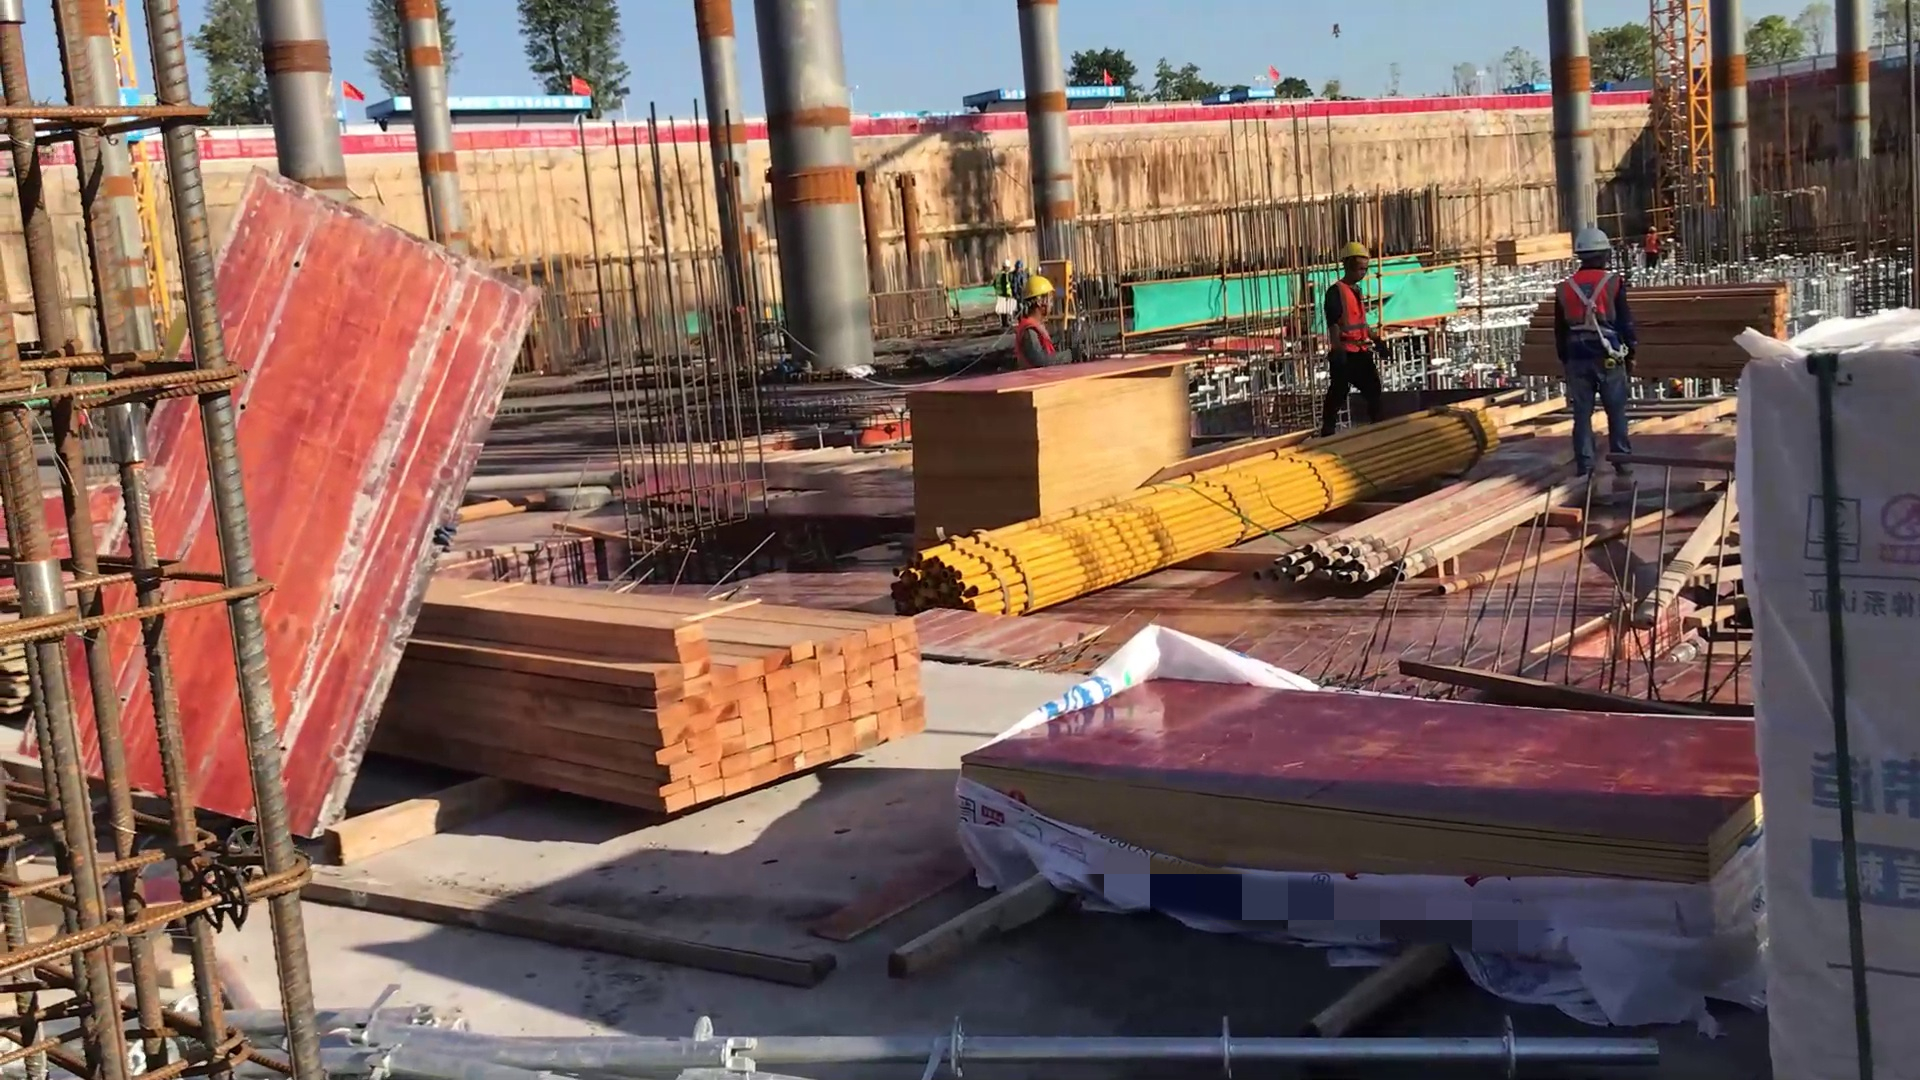helmet: (1569, 223, 1617, 266), (1014, 270, 1061, 306), (1333, 234, 1376, 270)
person: (1547, 220, 1658, 486), (1317, 236, 1397, 437), (1007, 265, 1069, 377)
vest: (1550, 262, 1632, 373), (1318, 275, 1379, 365), (1013, 313, 1060, 372)
